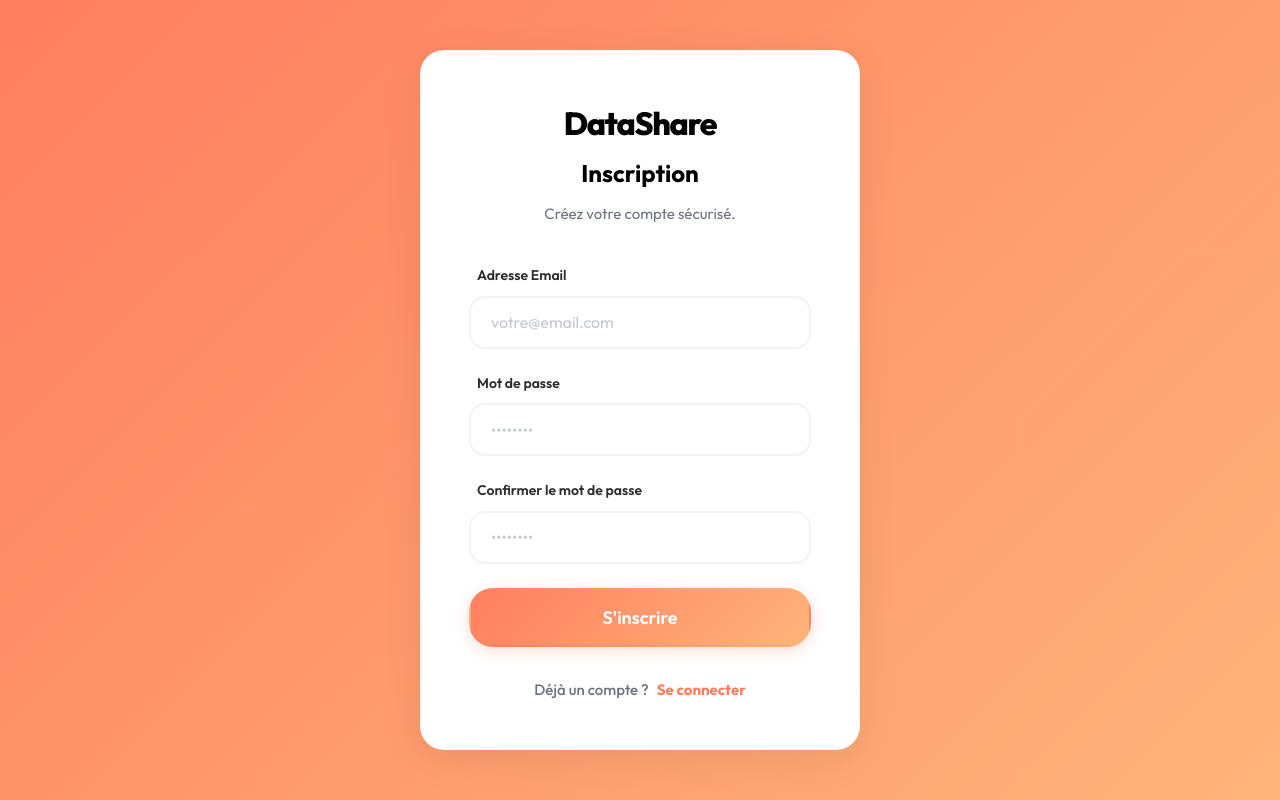
Page d'inscription › affiche une erreur si les mots de passe ne correspondent pas
In the field with placeholder "votre@email.com": (640, 322) top-left (469, 296), bottom-right (811, 349), type "nouveau@example.com"
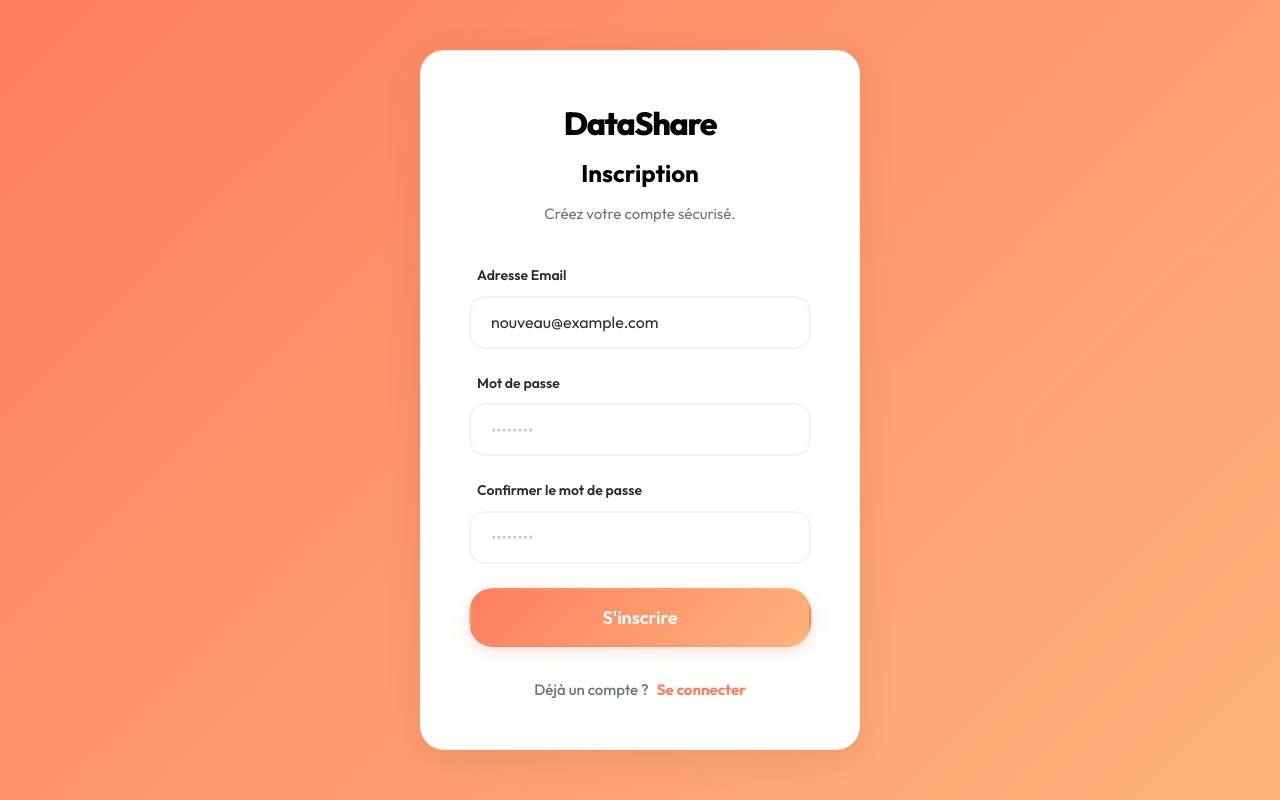
In the 1st password field with placeholder "••••••••": (640, 430) top-left (469, 403), bottom-right (811, 456), type "motdepasse123"
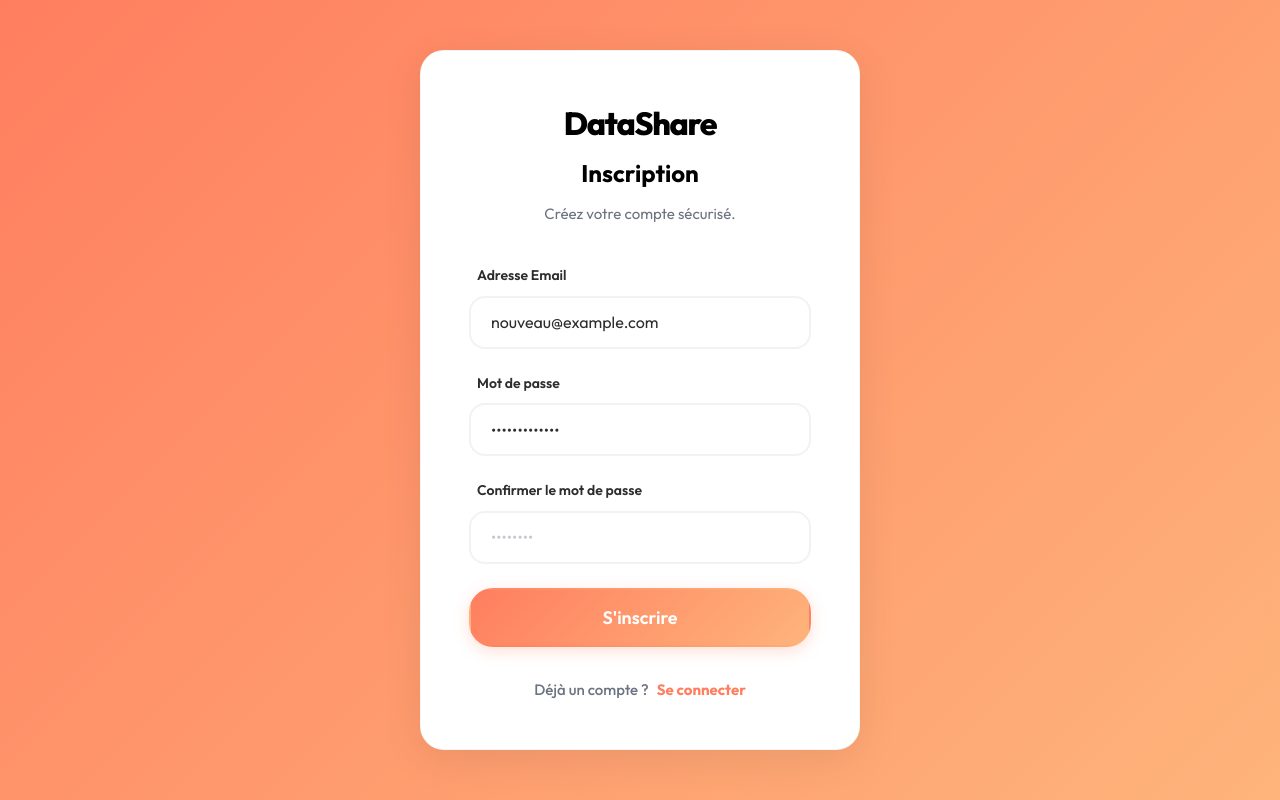
In the password field with placeholder "••••••••": (640, 537) top-left (469, 511), bottom-right (811, 564), type "différent456"
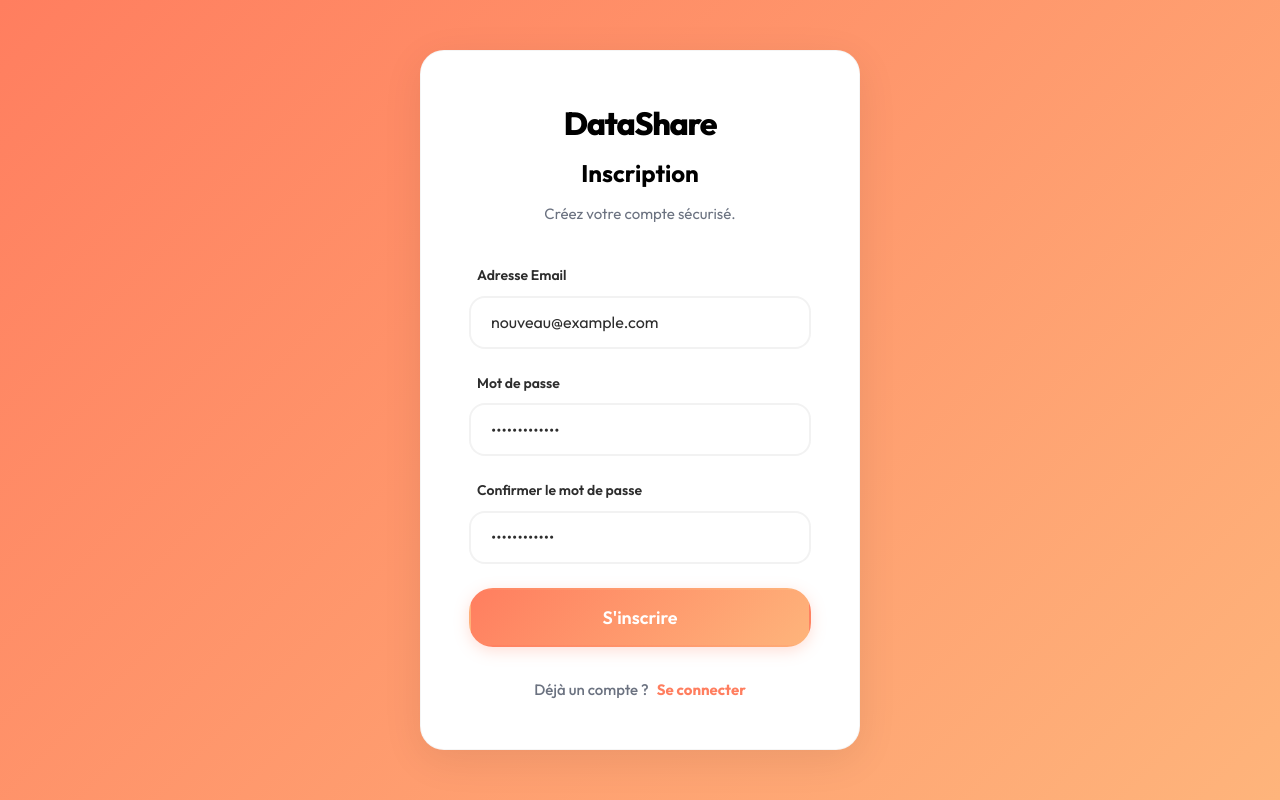
Click the button "S'inscrire": (640, 617) top-left (469, 588), bottom-right (811, 647)
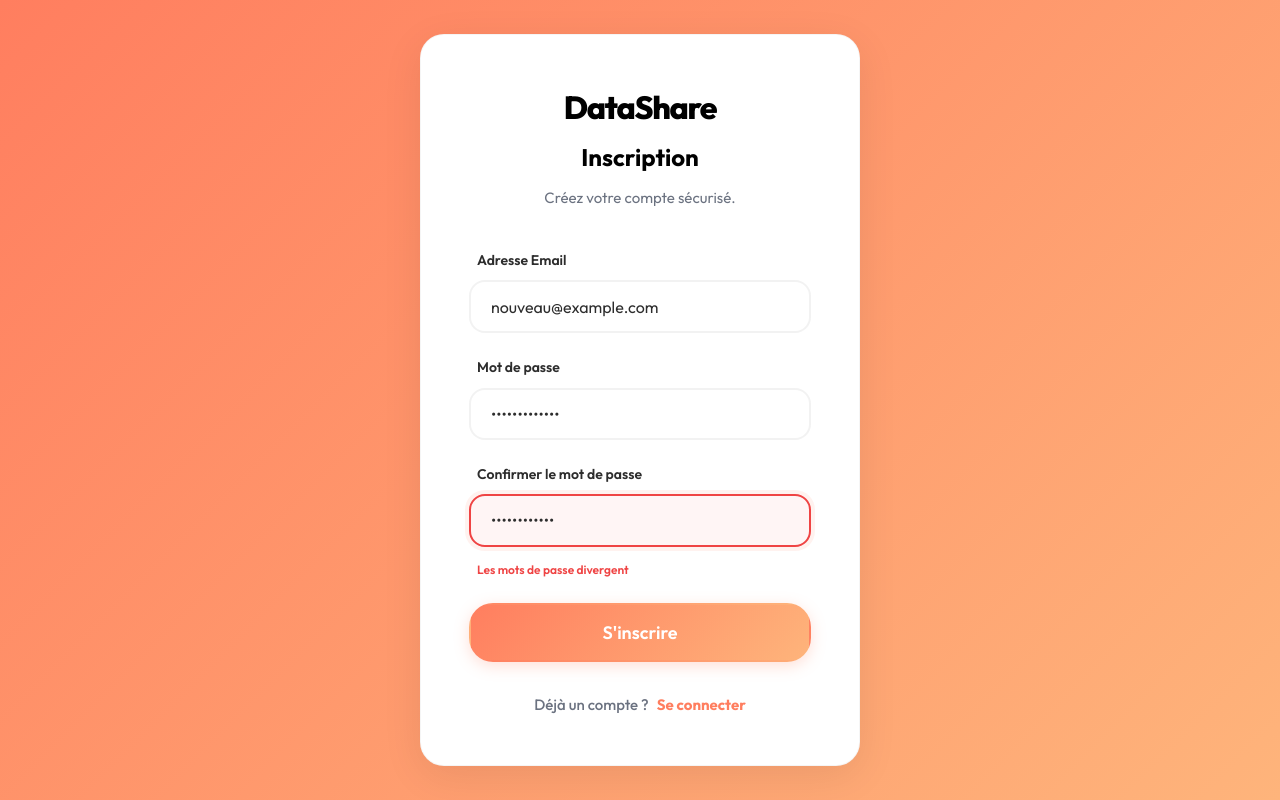
Check: the text "Les mots de passe divergent" is shown, box top-left (477, 562), bottom-right (629, 577)
